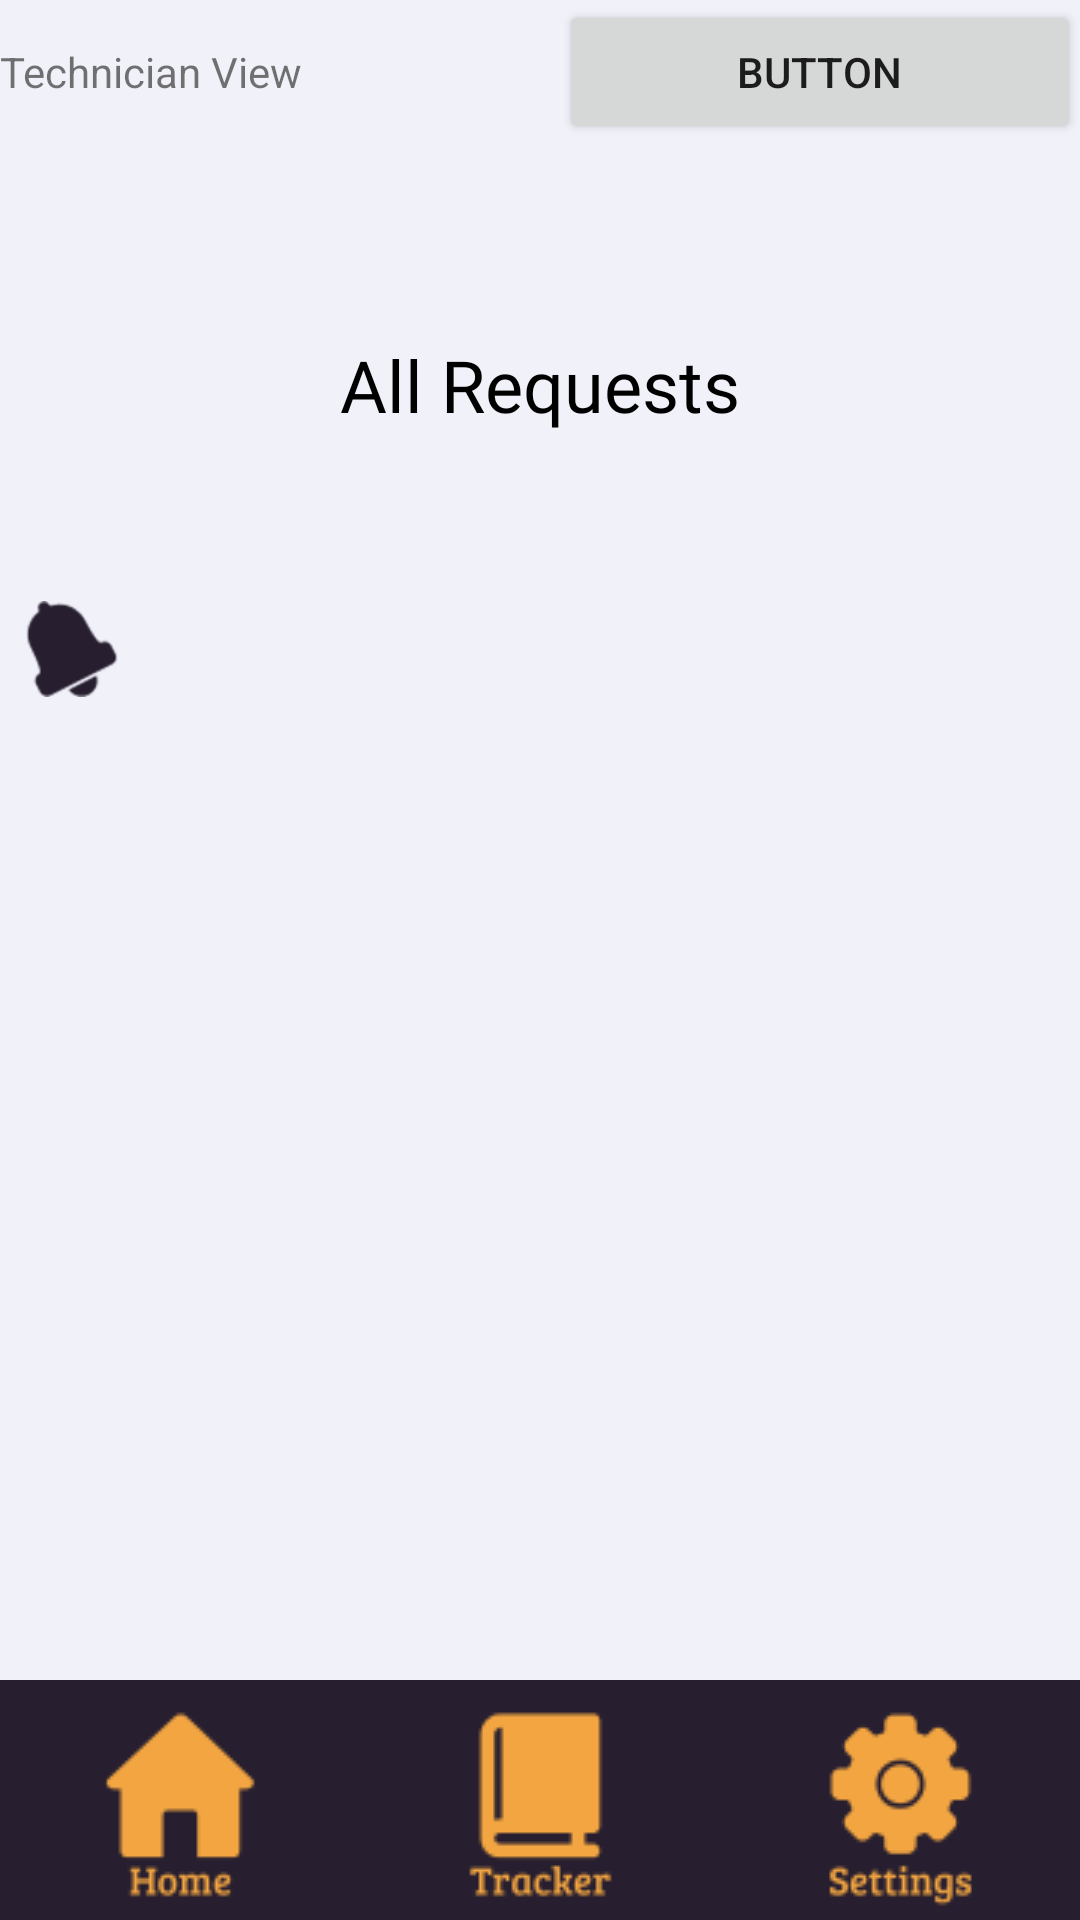

Icon click points for this 1080*1920 phone screenshot, format (x,y):
Notifications: (72,649)
